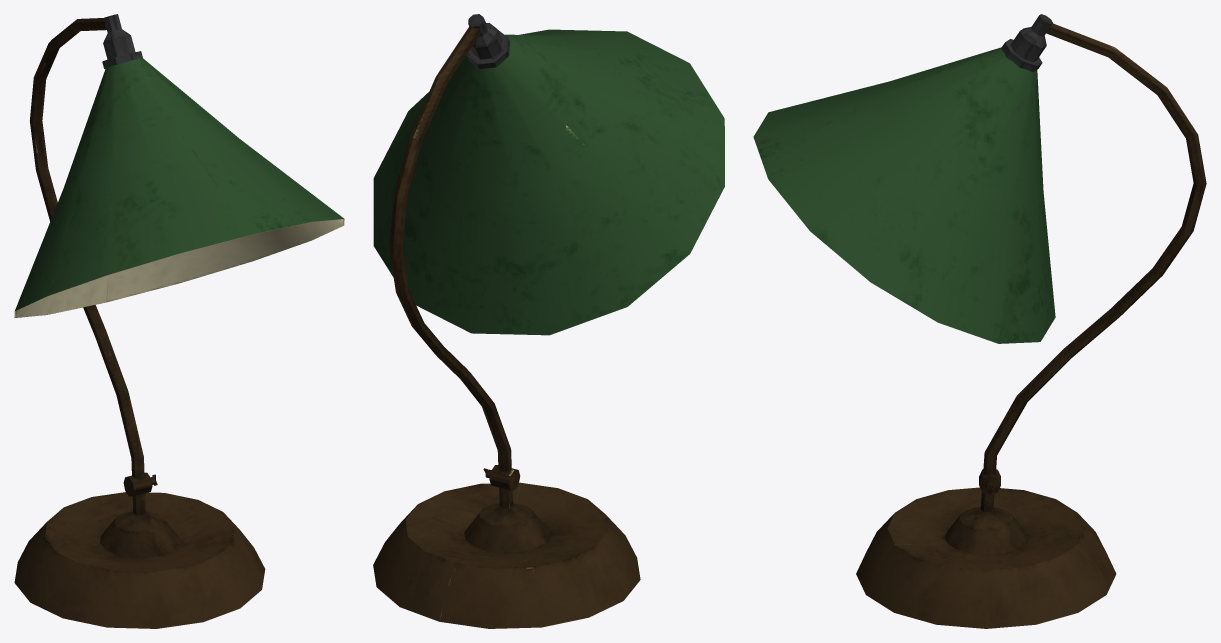
Rendered from PROP_DeskLamp_B_v01.fbx.
3 views of the same model, side by side, from view 1: azimuth 30°, elevation 25°; view 2: azimuth 150°, elevation 25°; view 3: azimuth 270°, elevation 25° (orthographic). The views are drawn at different scales.
Visible parts, largest first — view 1: Cylinder.001; view 2: Cylinder.001; view 3: Cylinder.001.
Boxes of the visible parts, x1=… form: Cylinder.001: x1=14, y1=14, x2=344, y2=628; Cylinder.001: x1=373, y1=14, x2=724, y2=628; Cylinder.001: x1=753, y1=14, x2=1206, y2=628.
Bounding box in the file's own units: 24.06 × 41.98 × 30.87.
1 material, 1 textured.
